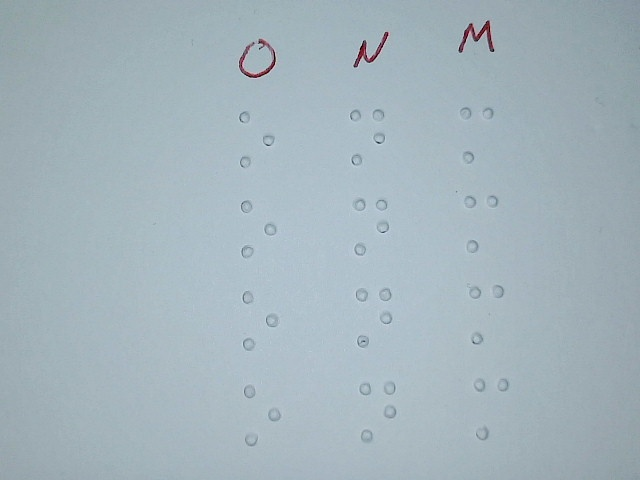M: (456, 103, 497, 165), (461, 192, 502, 254), (465, 283, 506, 345), (471, 378, 512, 440)
N: (347, 106, 388, 168), (351, 196, 392, 258), (353, 286, 394, 348), (358, 379, 396, 443)
O: (242, 383, 283, 448), (236, 108, 277, 170), (238, 198, 279, 260), (240, 289, 281, 351)
